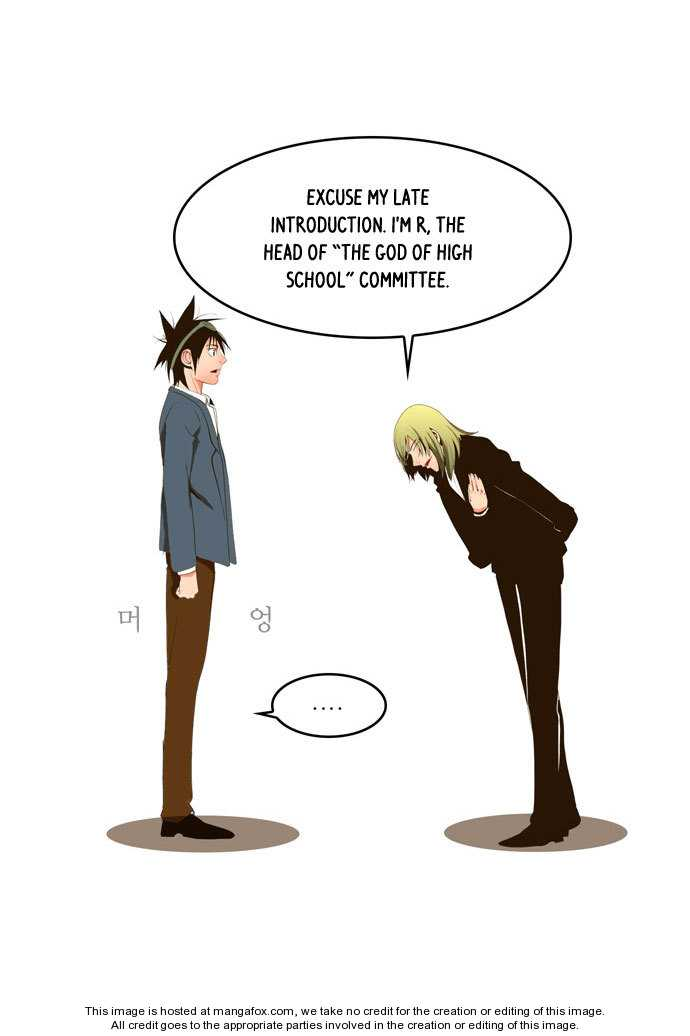bubble: (173, 138, 572, 373), (257, 674, 387, 737)
